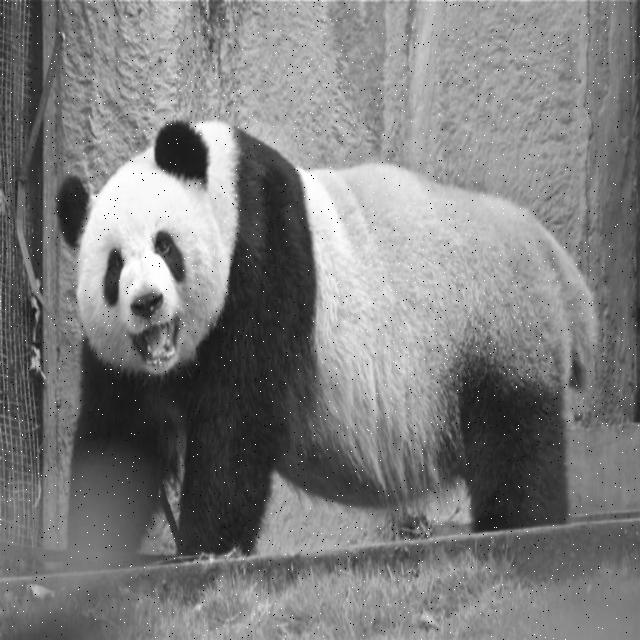panda: (62, 111, 594, 567)
